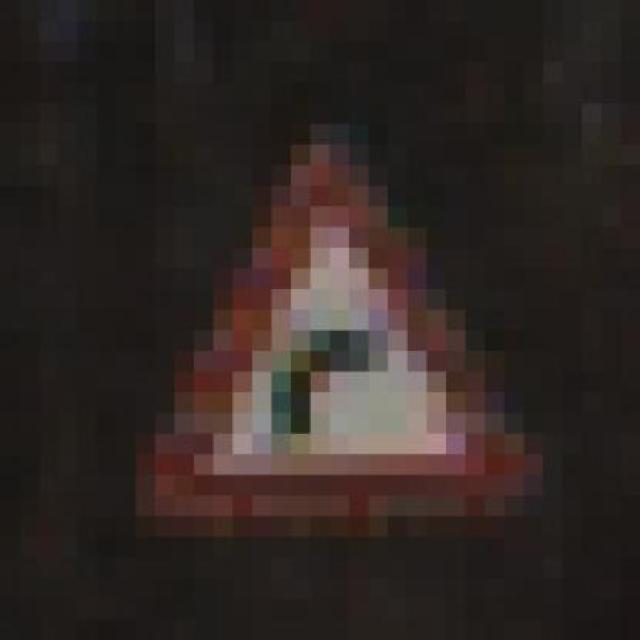Dangerous Rright Curve Ahead: (122, 117, 568, 531)
